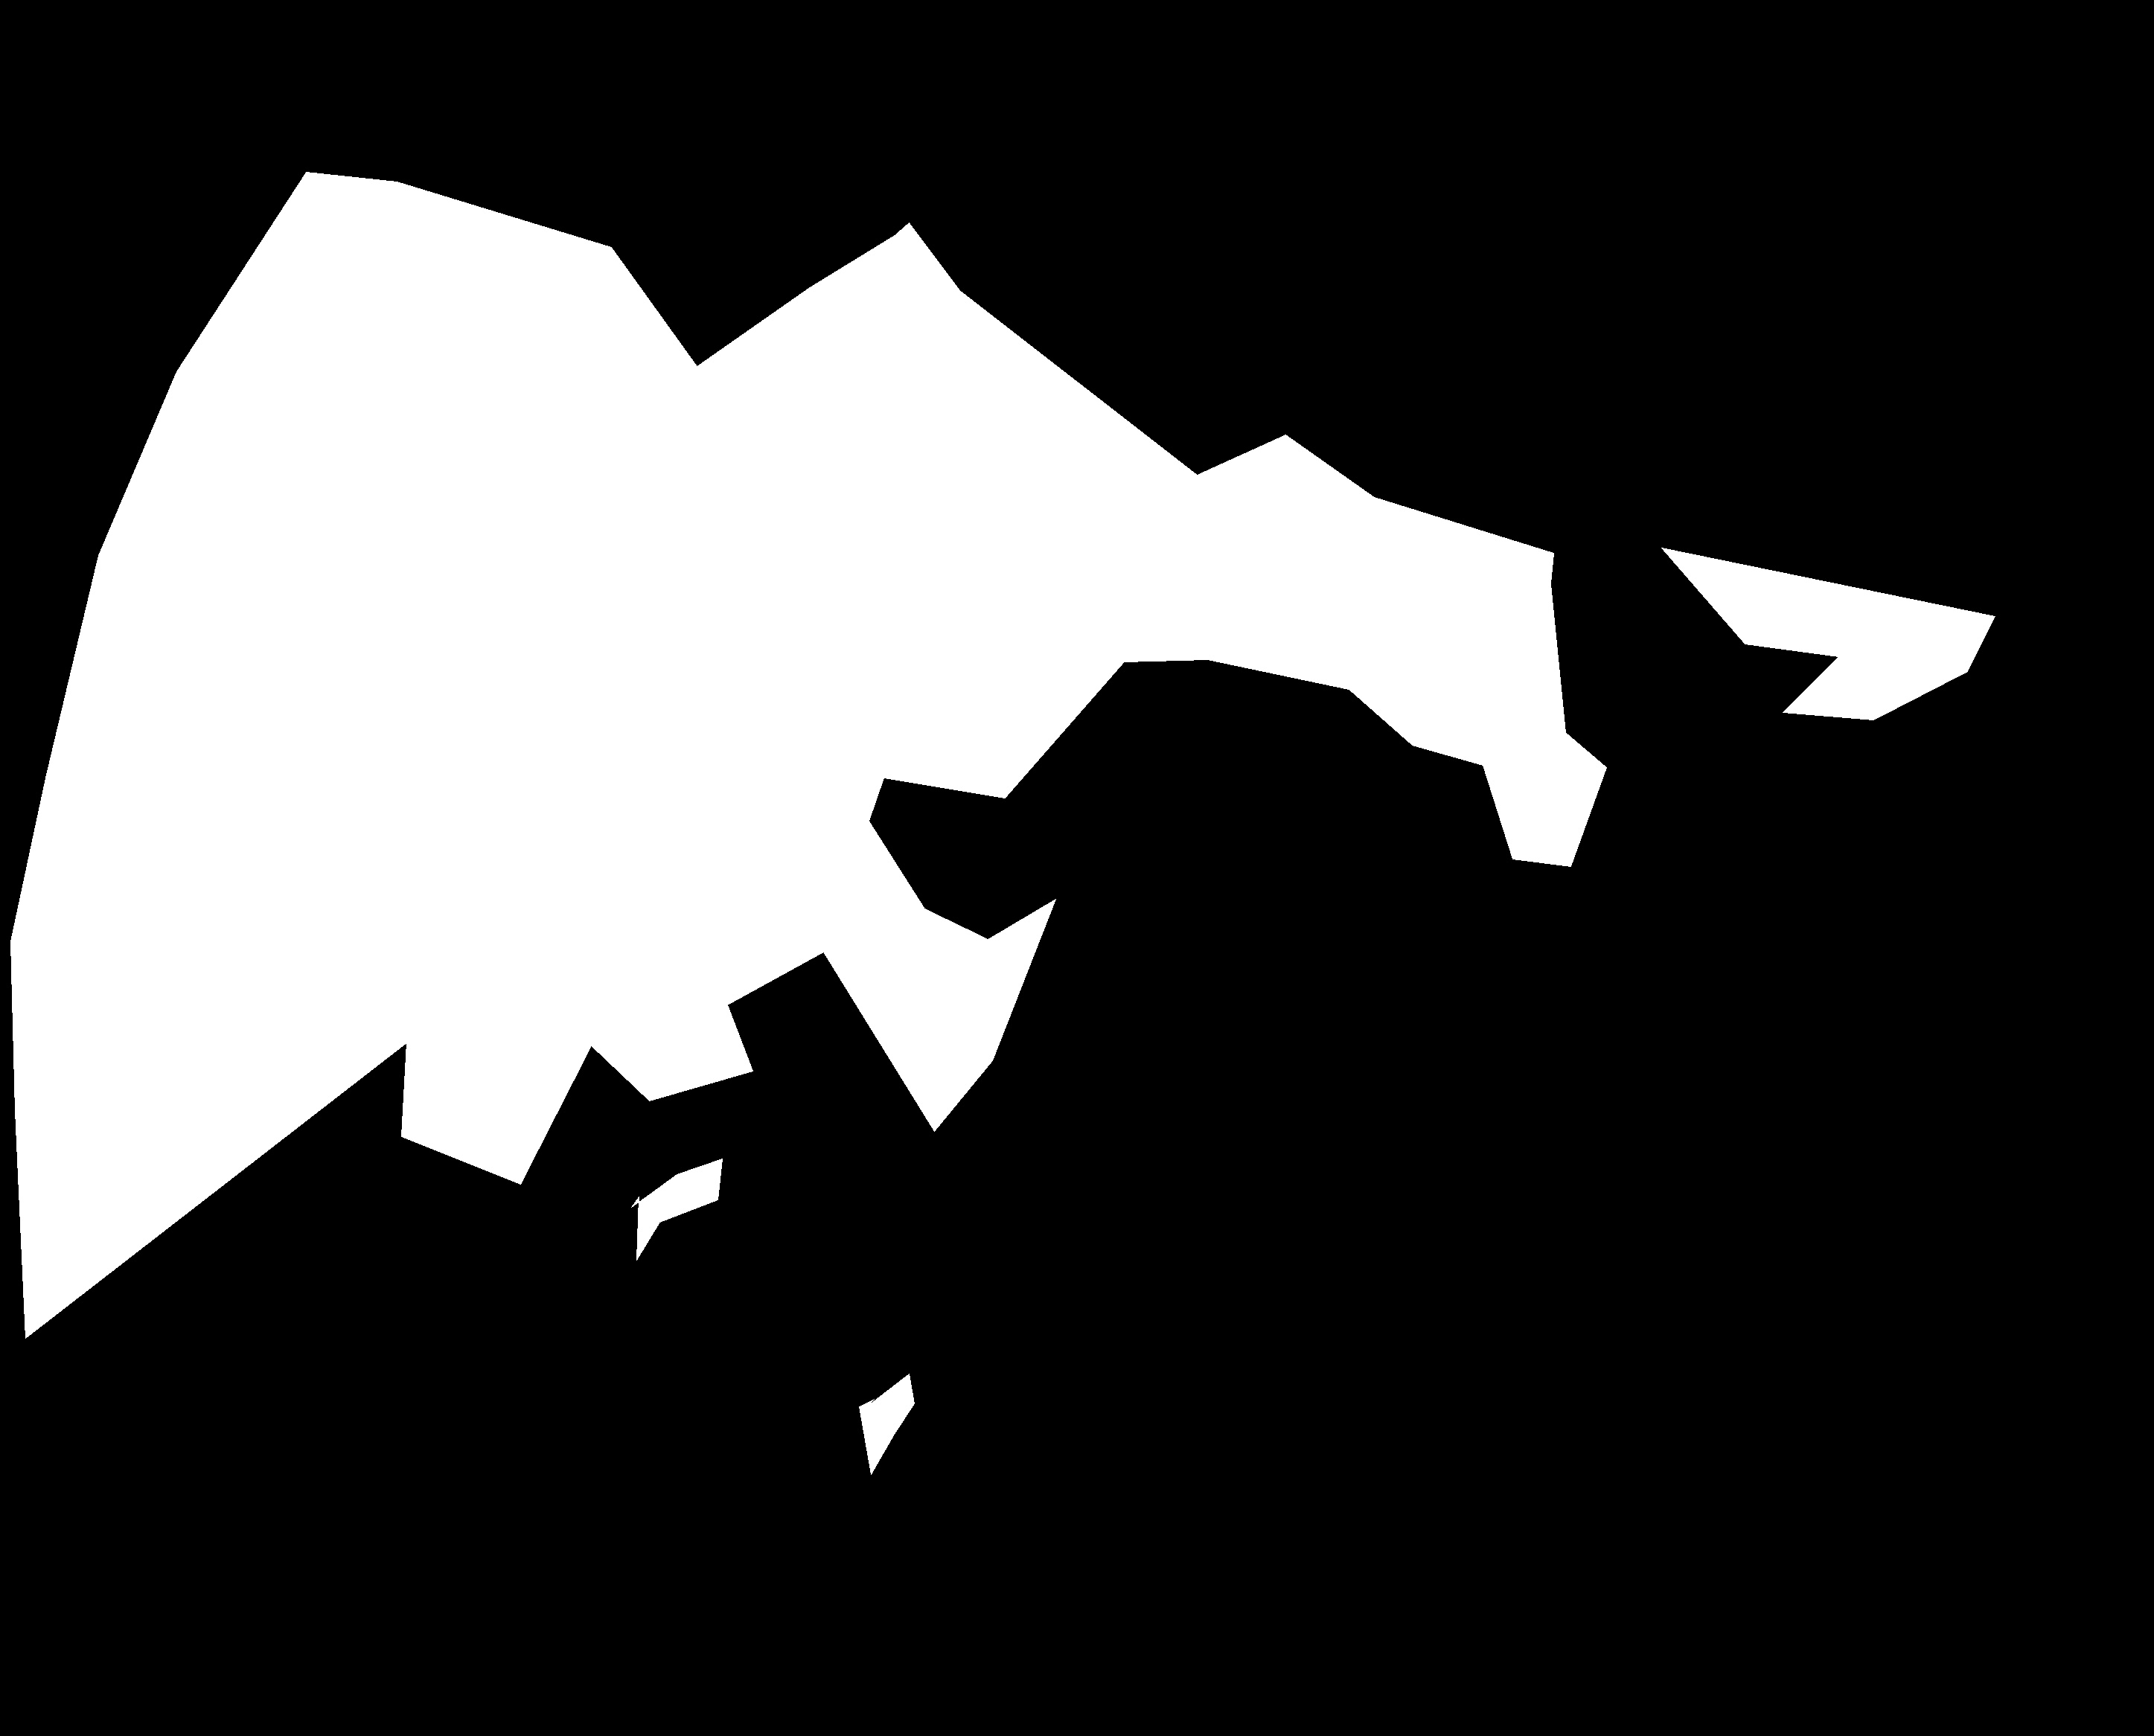fire: (758, 340, 1619, 843), (755, 733, 1072, 1091)
